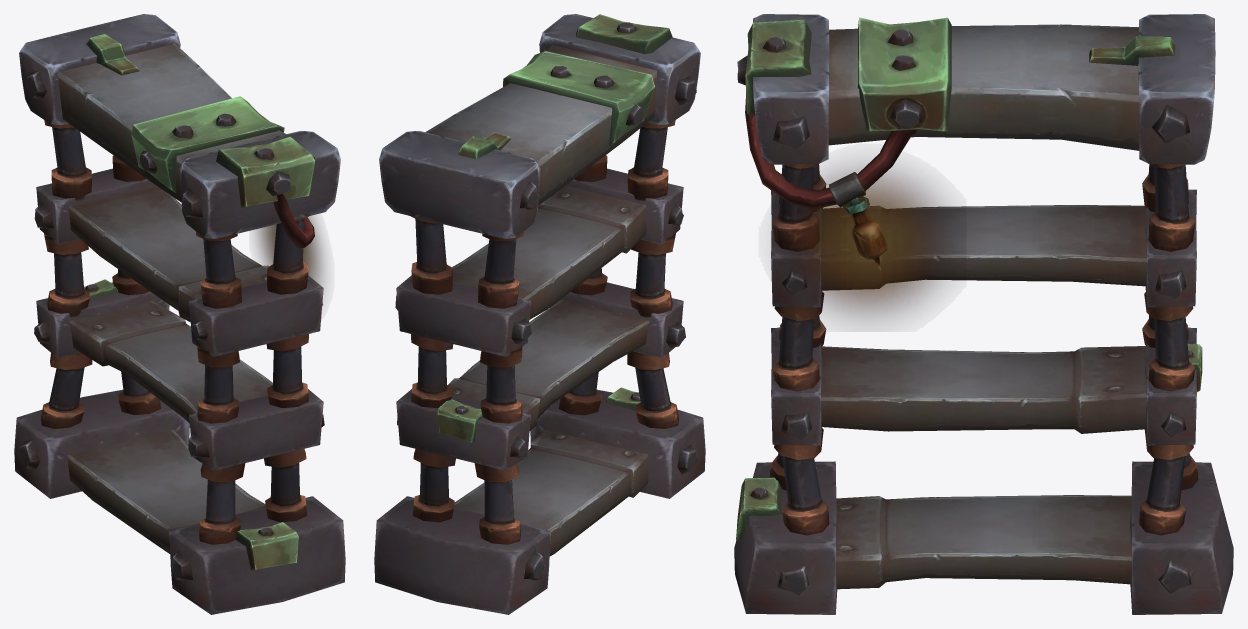
3 renders of one model, left to right at view 1: azimuth 30°, elevation 25°; view 2: azimuth 150°, elevation 25°; view 3: azimuth 270°, elevation 25°, orthographic. The views are drawn at different scales.
Size of the model in its own units: 1.1 by 3.03 by 2.57.
Materials: 5 (5 with a texture image).
